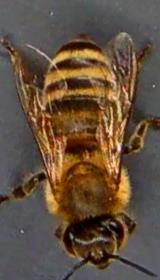varroa_mite: (34, 110, 56, 132)
